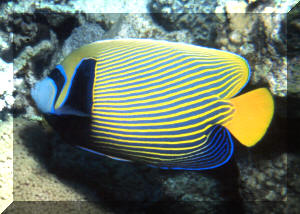Pomacanthus_imperator: (27, 34, 274, 173)
